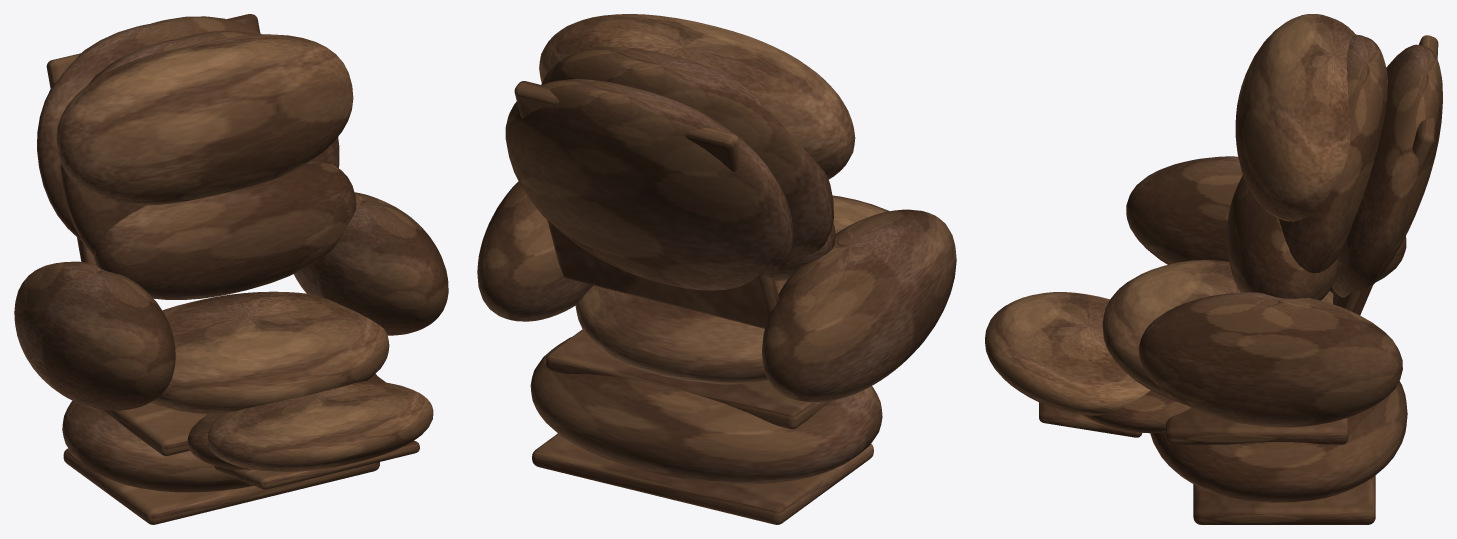
Rendered from refined-deterministic-recliner.glb.
3 views of the same model, side by side, from view 1: azimuth 30°, elevation 25°; view 2: azimuth 150°, elevation 25°; view 3: azimuth 270°, elevation 25° (orthographic). The views are drawn at different scales.
Parts seen in each view (by area): view 1: back_cushion_upper, back_cushion_lower, seat_cushion, left_arm, footrest_cushion, right_arm, base_skirt, back_rear_cover, base, back_continuity_mass, seat_frame, footrest_frame (+2 smaller); view 2: back_rear_cover, left_arm, base_skirt, back_cushion_upper, back_continuity_mass, seat_cushion, right_arm, base, back_frame, seat_frame, footrest_cushion, back_cushion_lower; view 3: right_arm, back_cushion_upper, base_skirt, footrest_cushion, back_rear_cover, left_arm, back_continuity_mass, seat_cushion, back_cushion_lower, base, seat_frame, footrest_continuity_shroud (+2 smaller).
Part boxes in pixels (<box>): back_cushion_upper: <box>56,34,353,205</box>; back_cushion_lower: <box>93,162,356,299</box>; seat_cushion: <box>150,291,389,414</box>; left_arm: <box>14,261,175,410</box>; footrest_cushion: <box>207,381,433,471</box>; right_arm: <box>294,192,448,335</box>; base_skirt: <box>62,374,376,492</box>; back_rear_cover: <box>37,16,261,240</box>; base: <box>63,448,379,524</box>; back_continuity_mass: <box>60,31,339,254</box>; seat_frame: <box>104,374,385,456</box>; footrest_frame: <box>214,440,419,489</box>; back_rear_cover: <box>505,79,793,290</box>; left_arm: <box>762,209,956,402</box>; base_skirt: <box>530,337,882,484</box>; back_cushion_upper: <box>539,14,855,179</box>; back_continuity_mass: <box>541,46,833,255</box>; seat_cushion: <box>575,280,787,383</box>; right_arm: <box>477,181,593,321</box>; base: <box>532,433,873,524</box>; back_frame: <box>514,81,779,328</box>; seat_frame: <box>546,329,830,429</box>; footrest_cushion: <box>832,195,889,233</box>; back_cushion_lower: <box>774,222,835,281</box>; right_arm: <box>1139,292,1402,427</box>; back_cushion_upper: <box>1235,14,1355,221</box>; base_skirt: <box>1150,381,1407,502</box>; footrest_cushion: <box>985,292,1150,415</box>; back_rear_cover: <box>1332,44,1442,297</box>; left_arm: <box>1126,156,1406,293</box>; back_continuity_mass: <box>1279,34,1387,273</box>; seat_cushion: <box>1102,260,1333,404</box>; back_cushion_lower: <box>1227,175,1337,300</box>; base: <box>1193,475,1375,524</box>; seat_frame: <box>1166,407,1348,444</box>; footrest_continuity_shroud: <box>1080,390,1191,433</box>.
Size of the model in its own units: 1.93 by 2.02 by 2.01.
4 materials, 4 textured.
